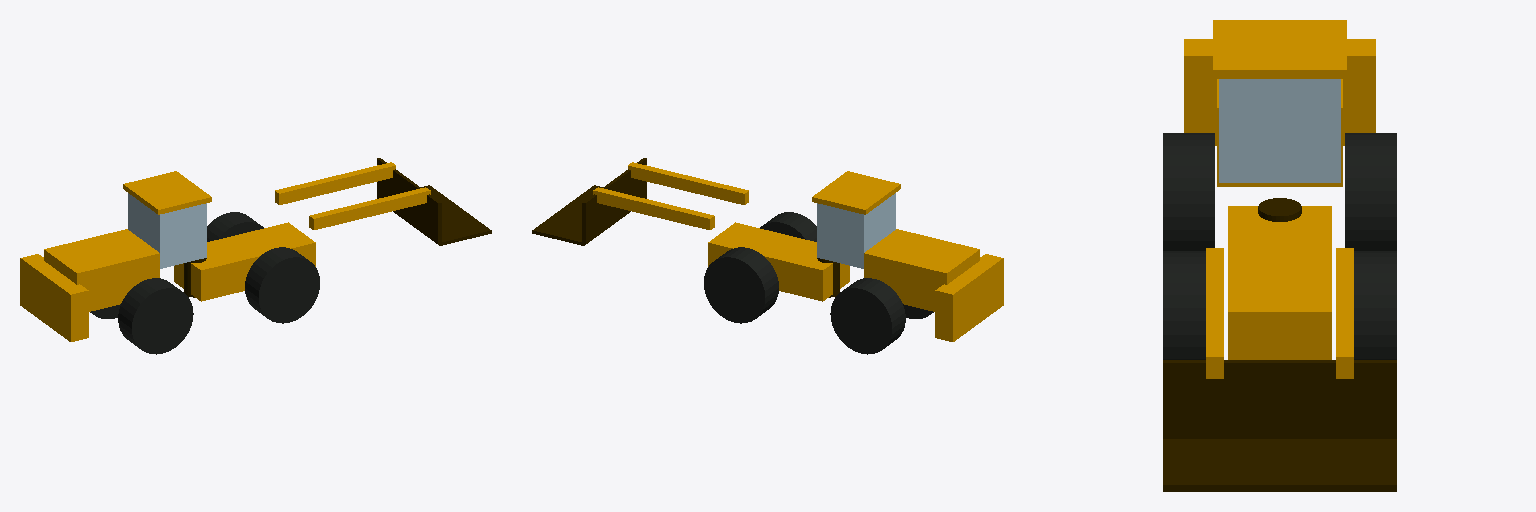
robot.urdf — kauha_loader:
<?xml version="1.0"?>
<!--
  KAUHA reference loader (15.5 t articulated wheel loader), for TF and visualisation.
  base_link = front axle centre on the ground, x forward, z up (the twin's pose reference).
  Joint conventions (published by kauha_ros/twin_bridge on /joint_states):
    articulation  rear frame yaw relative to the front frame; position = articulation angle gamma
                  (axis -z, so the rear heading is theta - gamma as in the twin)
    boom          boom pitch above horizontal (axis -y: positive raises)
    bucket        bucket pitch relative to the boom (visual mapping of the twin's bucket state)
  Safety scanner frames match kauha/sim/sensors.py (rear mounts converted from the rear frame's
  backward-facing coordinates). LaserScan angle 0 is the scanner link's +x axis.
-->
<robot name="kauha_loader">
  <material name="machine"><color rgba="0.88 0.63 0.0 1"/></material>
  <material name="dark"><color rgba="0.23 0.17 0.0 1"/></material>
  <material name="tyre"><color rgba="0.16 0.17 0.16 1"/></material>
  <material name="glass"><color rgba="0.7 0.8 0.85 0.6"/></material>

  <link name="base_link"/>

  <link name="front_frame">
    <visual><origin xyz="-0.35 0 1.0"/><geometry><box size="2.9 1.2 0.75"/></geometry><material name="machine"/></visual>
  </link>
  <joint name="front_frame_fixed" type="fixed"><parent link="base_link"/><child link="front_frame"/></joint>

  <link name="front_wheel_left"><visual><origin rpy="1.5708 0 0"/><geometry><cylinder radius="0.78" length="0.6"/></geometry><material name="tyre"/></visual></link>
  <link name="front_wheel_right"><visual><origin rpy="1.5708 0 0"/><geometry><cylinder radius="0.78" length="0.6"/></geometry><material name="tyre"/></visual></link>
  <joint name="front_wheel_left_fixed" type="fixed"><parent link="base_link"/><child link="front_wheel_left"/><origin xyz="0 1.05 0.78"/></joint>
  <joint name="front_wheel_right_fixed" type="fixed"><parent link="base_link"/><child link="front_wheel_right"/><origin xyz="0 -1.05 0.78"/></joint>

  <!-- articulation joint 1.6 m behind the front axle -->
  <link name="articulation_link"><visual><origin xyz="0 0 1.0"/><geometry><cylinder radius="0.25" length="0.9"/></geometry><material name="dark"/></visual></link>
  <joint name="articulation" type="revolute">
    <parent link="base_link"/><child link="articulation_link"/>
    <origin xyz="-1.6 0 0"/><axis xyz="0 0 -1"/>
    <limit lower="-0.698" upper="0.698" effort="1e6" velocity="0.35"/>
  </joint>

  <!-- rear frame origin = rear axle centre, 1.6 m behind the joint, x forward -->
  <link name="rear_axle">
    <visual><origin xyz="-0.75 0 1.6"/><geometry><box size="2.1 1.45 1.0"/></geometry><material name="machine"/></visual>
    <visual><origin xyz="-1.95 0 1.25"/><geometry><box size="0.45 2.2 1.15"/></geometry><material name="machine"/></visual>
    <visual><origin xyz="0.9 0 2.38"/><geometry><box size="1.2 1.4 1.35"/></geometry><material name="glass"/></visual>
    <visual><origin xyz="0.9 0 3.12"/><geometry><box size="1.35 1.55 0.12"/></geometry><material name="machine"/></visual>
  </link>
  <joint name="rear_frame_fixed" type="fixed"><parent link="articulation_link"/><child link="rear_axle"/><origin xyz="-1.6 0 0"/></joint>
  <link name="rear_wheel_left"><visual><origin rpy="1.5708 0 0"/><geometry><cylinder radius="0.78" length="0.6"/></geometry><material name="tyre"/></visual></link>
  <link name="rear_wheel_right"><visual><origin rpy="1.5708 0 0"/><geometry><cylinder radius="0.78" length="0.6"/></geometry><material name="tyre"/></visual></link>
  <joint name="rear_wheel_left_fixed" type="fixed"><parent link="rear_axle"/><child link="rear_wheel_left"/><origin xyz="0 1.05 0.78"/></joint>
  <joint name="rear_wheel_right_fixed" type="fixed"><parent link="rear_axle"/><child link="rear_wheel_right"/><origin xyz="0 -1.05 0.78"/></joint>

  <!-- boom and bucket -->
  <link name="boom">
    <visual><origin xyz="1.475 0.75 0"/><geometry><box size="2.95 0.2 0.28"/></geometry><material name="machine"/></visual>
    <visual><origin xyz="1.475 -0.75 0"/><geometry><box size="2.95 0.2 0.28"/></geometry><material name="machine"/></visual>
  </link>
  <joint name="boom" type="revolute">
    <parent link="base_link"/><child link="boom"/>
    <origin xyz="0.9 0 1.95"/><axis xyz="0 -1 0"/>
    <limit lower="-0.62" upper="0.95" effort="1e6" velocity="0.27"/>
  </joint>
  <link name="bucket">
    <visual><origin xyz="-0.05 0 -0.45"/><geometry><box size="0.08 2.7 1.0"/></geometry><material name="dark"/></visual>
    <visual><origin xyz="0.6 0 -0.95"/><geometry><box size="1.3 2.7 0.08"/></geometry><material name="dark"/></visual>
  </link>
  <joint name="bucket" type="revolute">
    <parent link="boom"/><child link="bucket"/>
    <origin xyz="2.95 0 0"/><axis xyz="0 -1 0"/>
    <limit lower="-2.0" upper="2.0" effort="1e6" velocity="0.55"/>
  </joint>

  <!-- safety scanners (outdoorScan3, 275 deg) -->
  <link name="front_left_scanner"/>
  <joint name="front_left_scanner_fixed" type="fixed"><parent link="base_link"/><child link="front_left_scanner"/><origin xyz="2.0 1.35 0.5" rpy="0 0 0.785398163"/></joint>
  <link name="front_right_scanner"/>
  <joint name="front_right_scanner_fixed" type="fixed"><parent link="base_link"/><child link="front_right_scanner"/><origin xyz="2.0 -1.35 0.5" rpy="0 0 -0.785398163"/></joint>
  <link name="rear_left_scanner"/>
  <joint name="rear_left_scanner_fixed" type="fixed"><parent link="rear_axle"/><child link="rear_left_scanner"/><origin xyz="-1.7 1.2 0.5" rpy="0 0 2.356194490"/></joint>
  <link name="rear_right_scanner"/>
  <joint name="rear_right_scanner_fixed" type="fixed"><parent link="rear_axle"/><child link="rear_right_scanner"/><origin xyz="-1.7 -1.2 0.5" rpy="0 0 -2.356194490"/></joint>
</robot>

--- Render facts (derived) ---
The picture shows the robot from 3 angles, left to right: view 1: azimuth 30°, elevation 25°; view 2: azimuth 150°, elevation 25°; view 3: azimuth 270°, elevation 25°; orthographic projection.
Robot: kauha_loader — 14 links, 13 joints (3 revolute, 10 fixed); root link base_link; default pose: all joints at 0.
Links seen in each view (by area): view 1: rear_axle, front_frame, front_wheel_right, rear_wheel_right, boom, bucket, front_wheel_left; view 2: rear_axle, front_frame, front_wheel_left, rear_wheel_left, boom, bucket, front_wheel_right; view 3: bucket, rear_axle, front_frame, rear_wheel_left, rear_wheel_right, boom, front_wheel_left, front_wheel_right, articulation_link.
Boxes of the visible links, x1,y1,x2,y2 form: rear_axle: [20, 171, 211, 341]; front_frame: [174, 222, 315, 301]; front_wheel_right: [245, 247, 319, 323]; rear_wheel_right: [118, 278, 193, 354]; boom: [275, 162, 430, 229]; bucket: [377, 158, 491, 245]; front_wheel_left: [207, 212, 263, 241]; rear_axle: [812, 171, 1003, 341]; front_frame: [708, 222, 849, 301]; front_wheel_left: [704, 247, 778, 323]; rear_wheel_left: [830, 278, 905, 354]; boom: [593, 162, 748, 229]; bucket: [532, 158, 646, 245]; front_wheel_right: [760, 212, 816, 241]; bucket: [1163, 360, 1396, 491]; rear_axle: [1184, 20, 1375, 186]; front_frame: [1228, 206, 1331, 359]; rear_wheel_left: [1345, 133, 1396, 250]; rear_wheel_right: [1163, 133, 1214, 250]; boom: [1206, 248, 1353, 378]; front_wheel_left: [1354, 251, 1396, 359]; front_wheel_right: [1163, 251, 1205, 359]; articulation_link: [1258, 198, 1301, 221].
Bounding box of the posed robot: 10.47 × 2.7 × 3.18 m (x, y, z).
Geometry: primitives only (box / cylinder / sphere), no mesh files.
